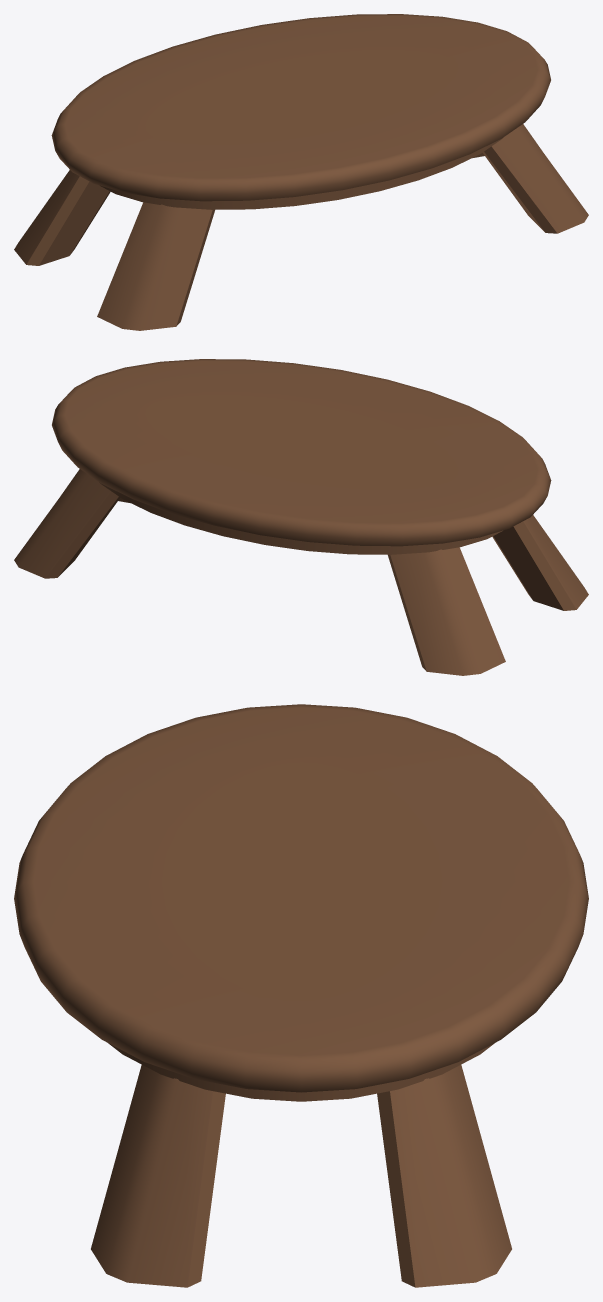
File: Table.fbx
The picture shows the model from 3 angles, top to bottom: view 1: azimuth 30°, elevation 25°; view 2: azimuth 150°, elevation 25°; view 3: azimuth 270°, elevation 25°; orthographic projection. The views are drawn at different scales.
Parts seen in each view (by area): view 1: Oval Table; view 2: Oval Table; view 3: Oval Table.
Part boxes in pixels (bbox=[...]): Oval Table: bbox=[14, 14, 588, 330]; Oval Table: bbox=[14, 359, 588, 675]; Oval Table: bbox=[14, 704, 588, 1287].
Size of the model in its own units: 200 by 310 by 83.59.
